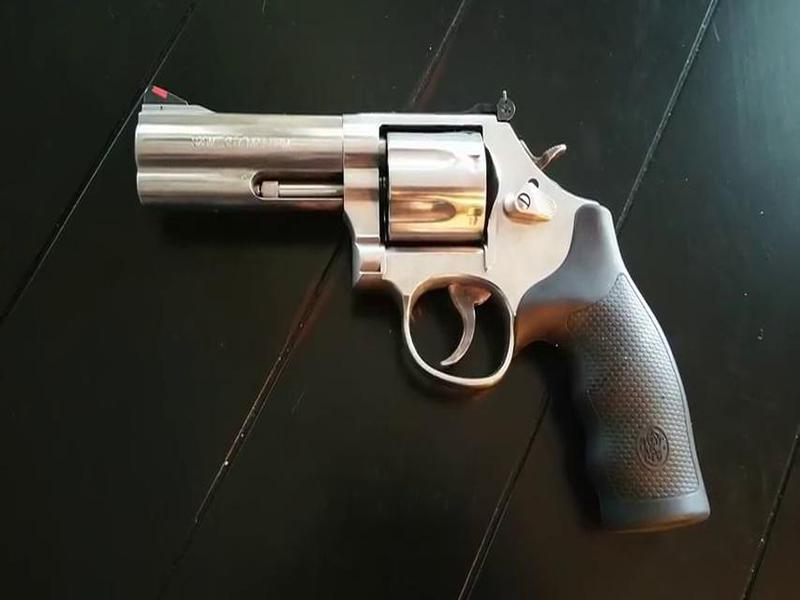Revolver: (129, 86, 749, 552)
